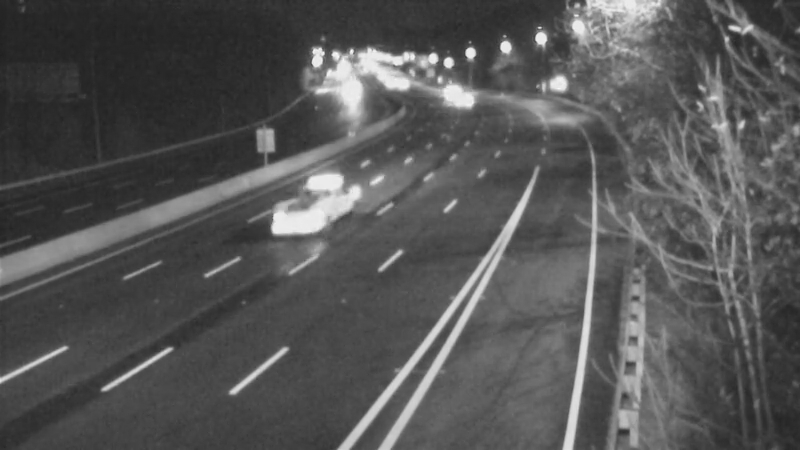vehicle: (273, 167, 353, 247), (422, 65, 472, 115), (438, 74, 488, 124), (325, 69, 375, 119)
